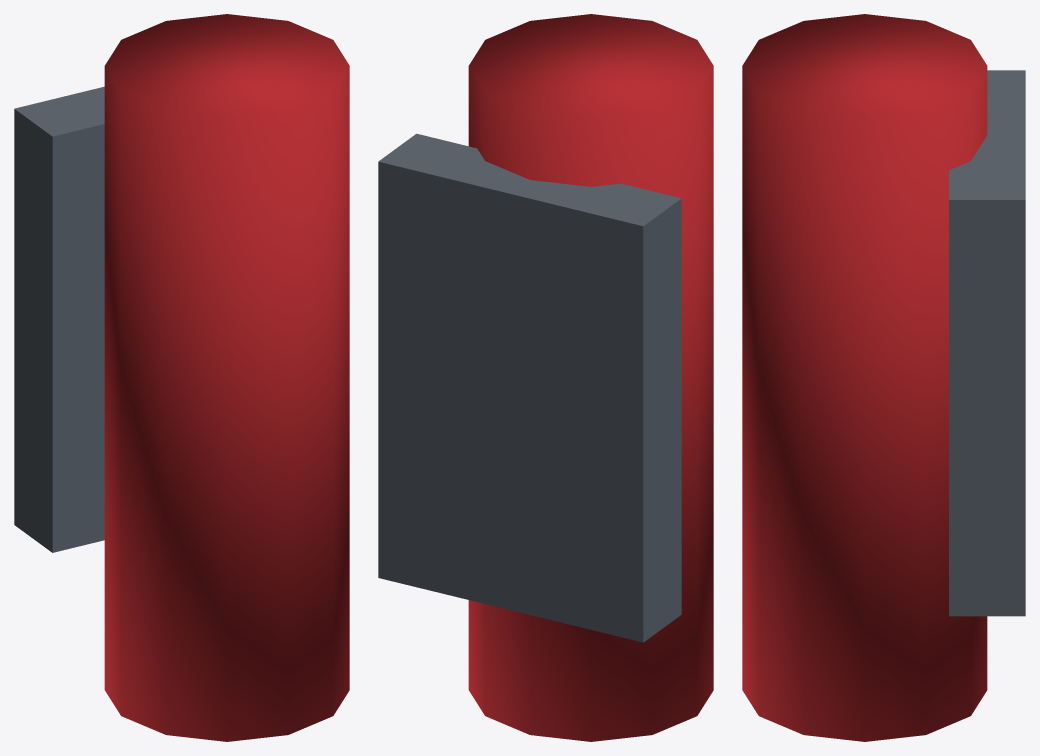
The model's file is fire_ext.gltf.
3 views of the same model, side by side, from view 1: azimuth 30°, elevation 25°; view 2: azimuth 150°, elevation 25°; view 3: azimuth 270°, elevation 25° (orthographic).
Visible parts, largest first — view 1: fire_ext_mesh; view 2: fire_ext_mesh; view 3: fire_ext_mesh.
Boxes of the visible parts, x1=… form: fire_ext_mesh: x1=14, y1=14, x2=349, y2=741; fire_ext_mesh: x1=378, y1=14, x2=713, y2=741; fire_ext_mesh: x1=742, y1=14, x2=1025, y2=741.
Bounding box in the file's own units: 0.2 × 0.45 × 0.185.
